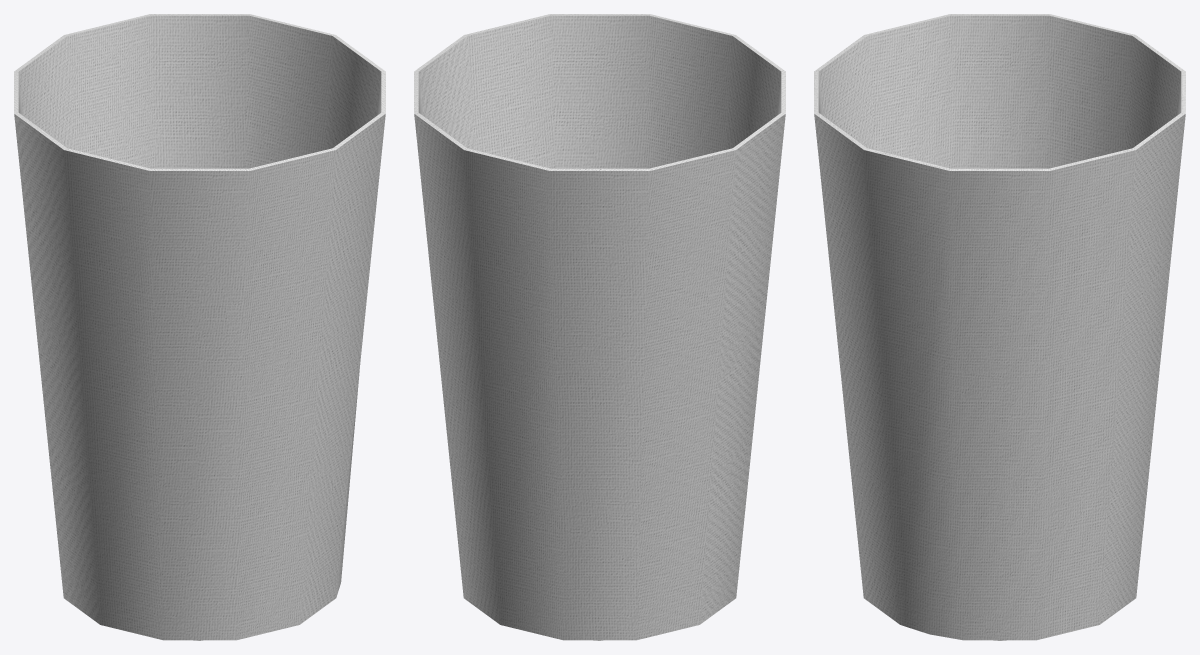
Rendered from Classroom-86.FBX.
3 views of the same model, side by side, from view 1: azimuth 30°, elevation 25°; view 2: azimuth 150°, elevation 25°; view 3: azimuth 270°, elevation 25° (orthographic).
Visible parts, largest first — view 1: Classroom-86; view 2: Classroom-86; view 3: Classroom-86.
Boxes of the visible parts, left/top/right/bottom form: Classroom-86: left=14, top=14, right=385, bottom=640; Classroom-86: left=414, top=14, right=785, bottom=640; Classroom-86: left=814, top=14, right=1185, bottom=640.
Bounding box in the file's own units: 79.02 × 117 × 79.02.
